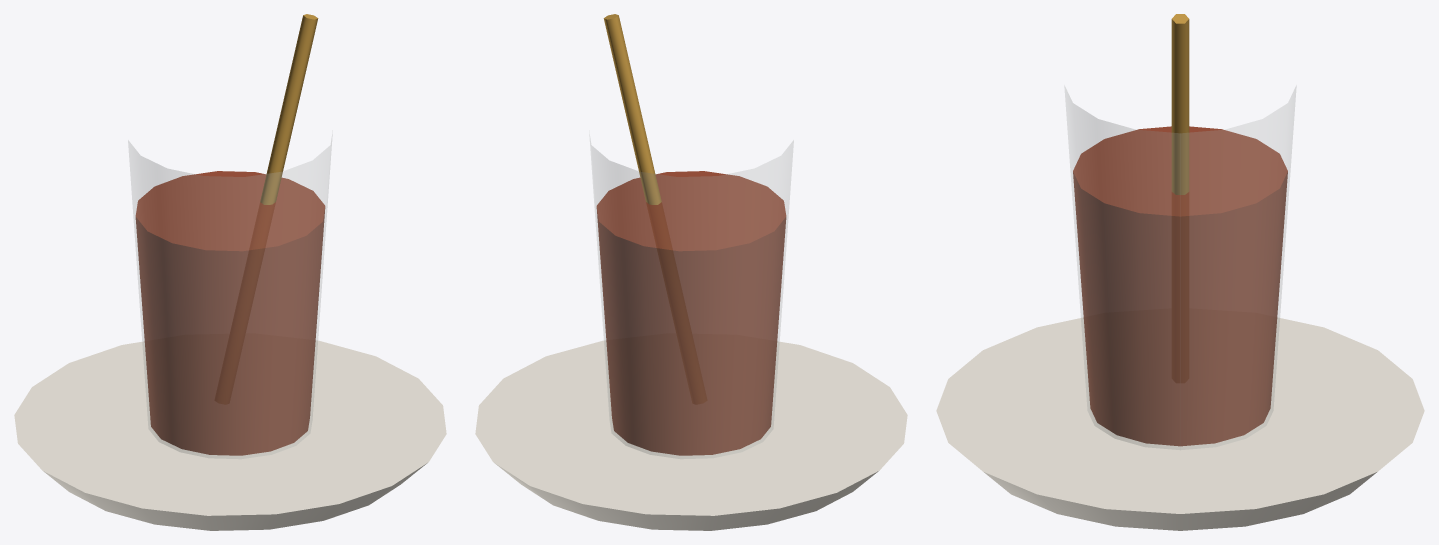
File: TeaGlass.glb
The picture shows the model from 3 angles, left to right: view 1: azimuth 30°, elevation 25°; view 2: azimuth 150°, elevation 25°; view 3: azimuth 270°, elevation 25°; orthographic projection. The views are drawn at different scales.
Parts seen in each view (by area): view 1: TeaGlass; view 2: TeaGlass; view 3: TeaGlass.
Boxes of the visible parts, <box> form: TeaGlass: <box>14,14,446,530</box>; TeaGlass: <box>475,14,907,530</box>; TeaGlass: <box>936,14,1424,530</box>.
Bounding box in the file's own units: 0.84 × 0.8908 × 0.84.
